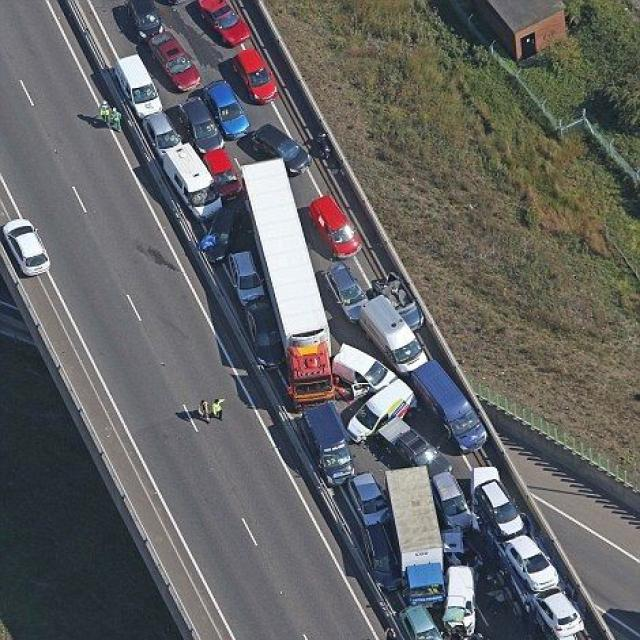traffic_incident: (314, 292, 534, 582)
